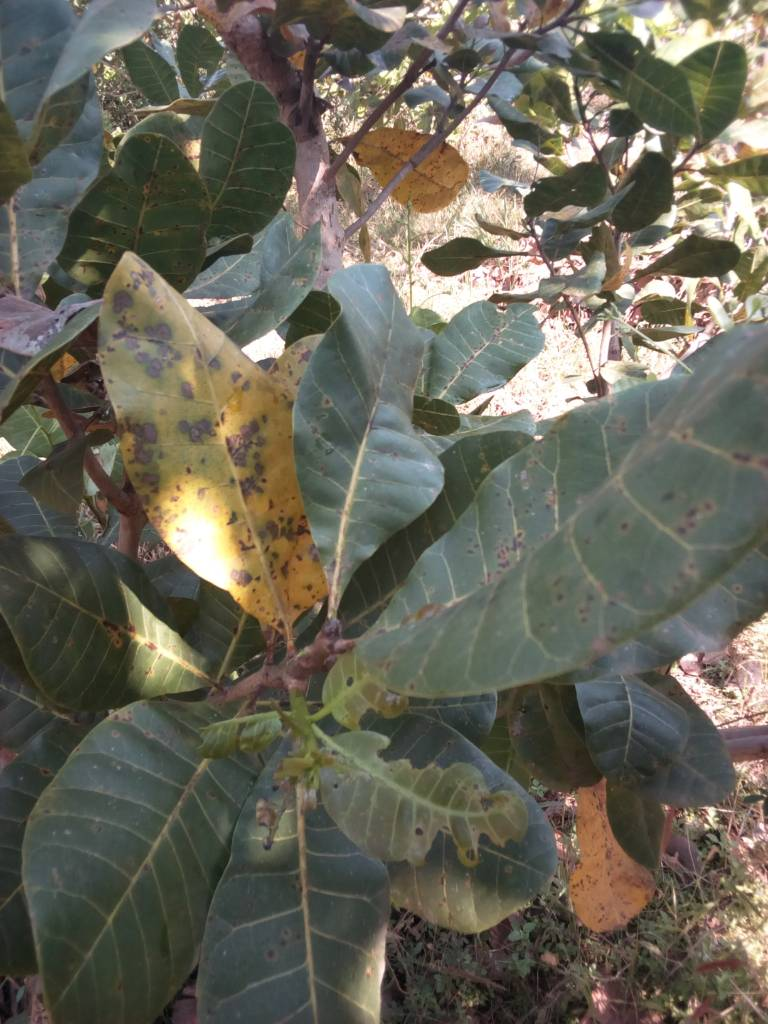Pestalotiose: (350, 332, 768, 688), (29, 746, 200, 1014), (1, 538, 205, 694), (199, 847, 358, 1024), (79, 132, 211, 288)
